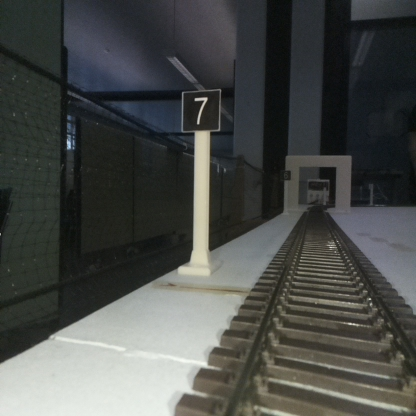black-info-6: (281, 170, 291, 214)
black-info-7: (182, 92, 218, 273)
